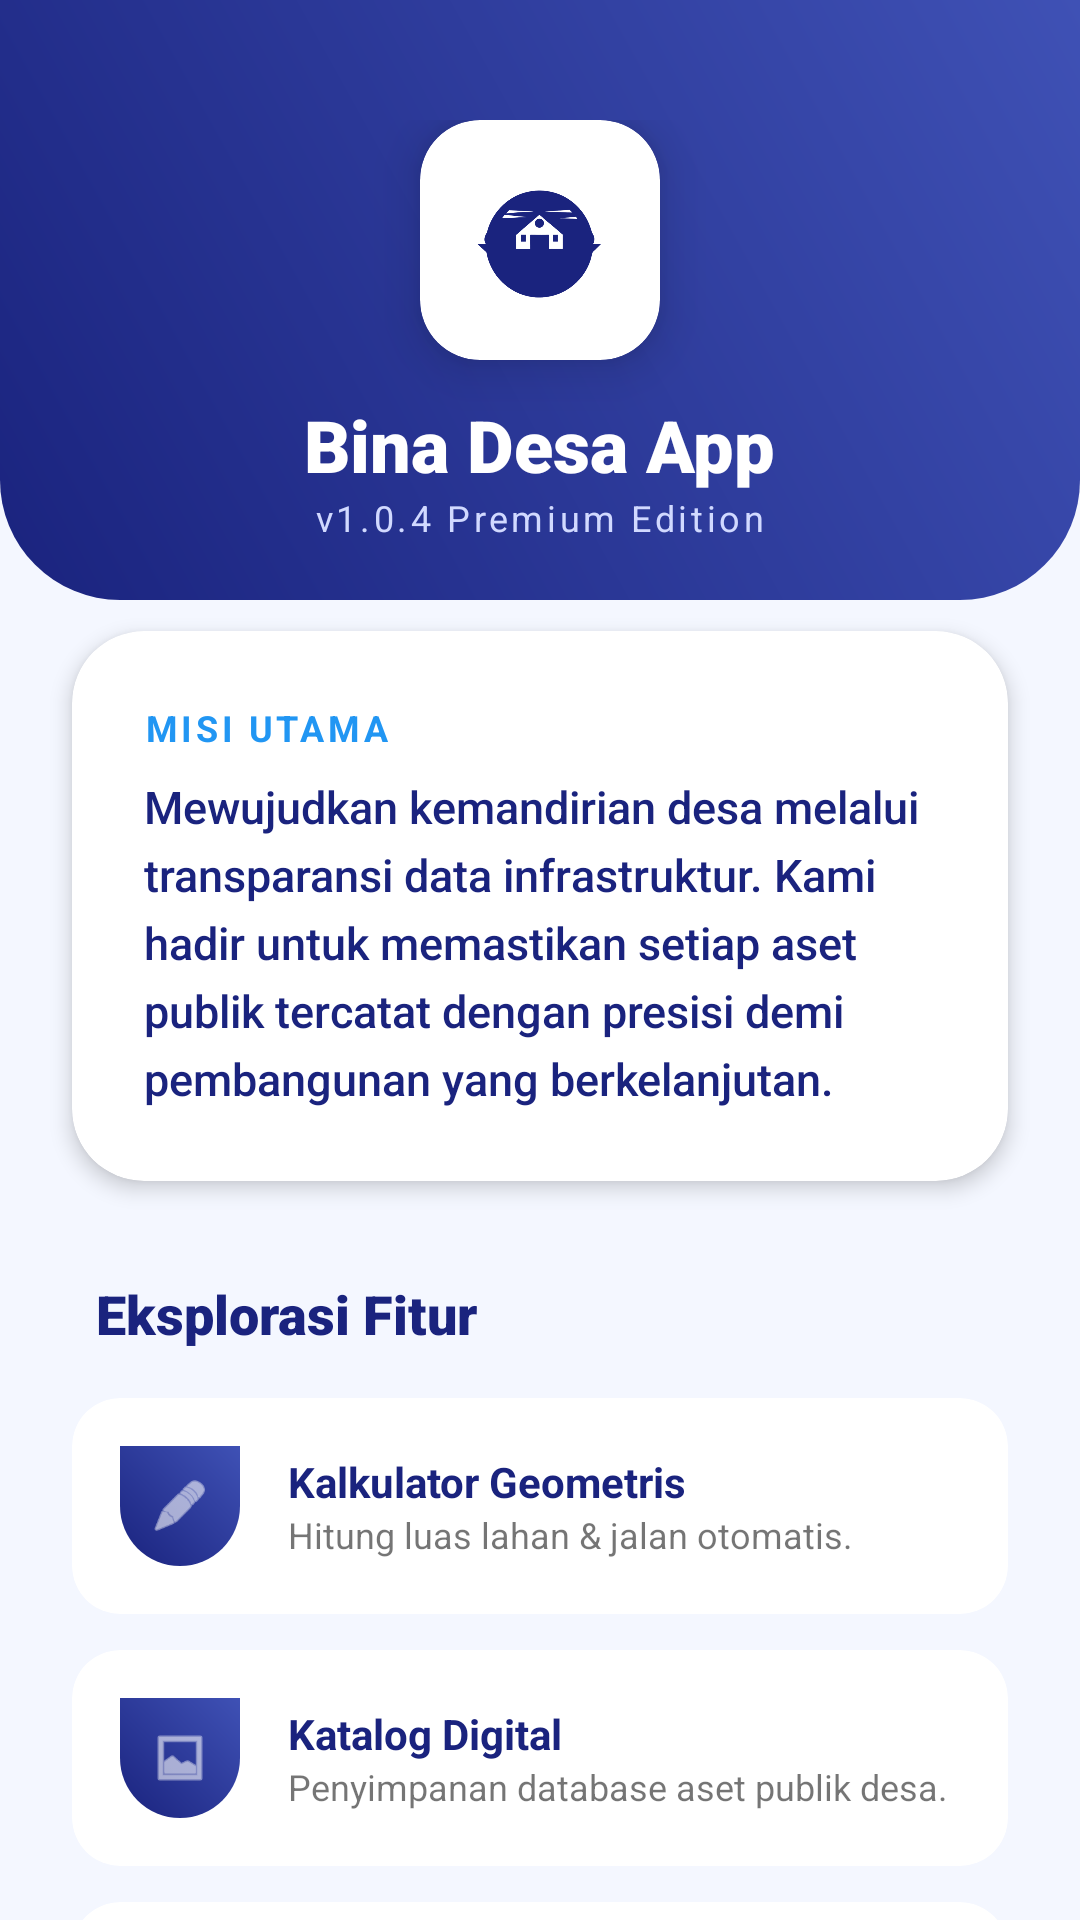

Icons on this 1080x1920 Android screen, each with the point to tap as (x=x, y=y):
edit: (x=180, y=1506)
gallery: (x=180, y=1758)
